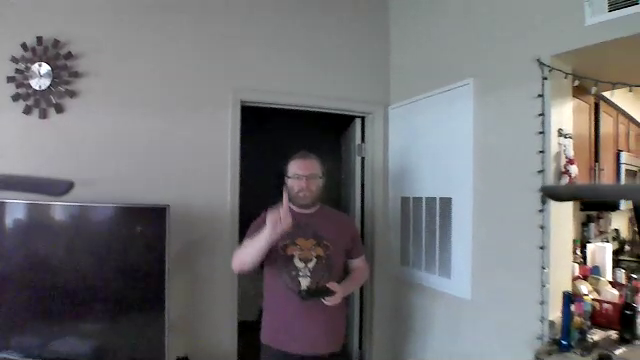up: (262, 181, 295, 236)
